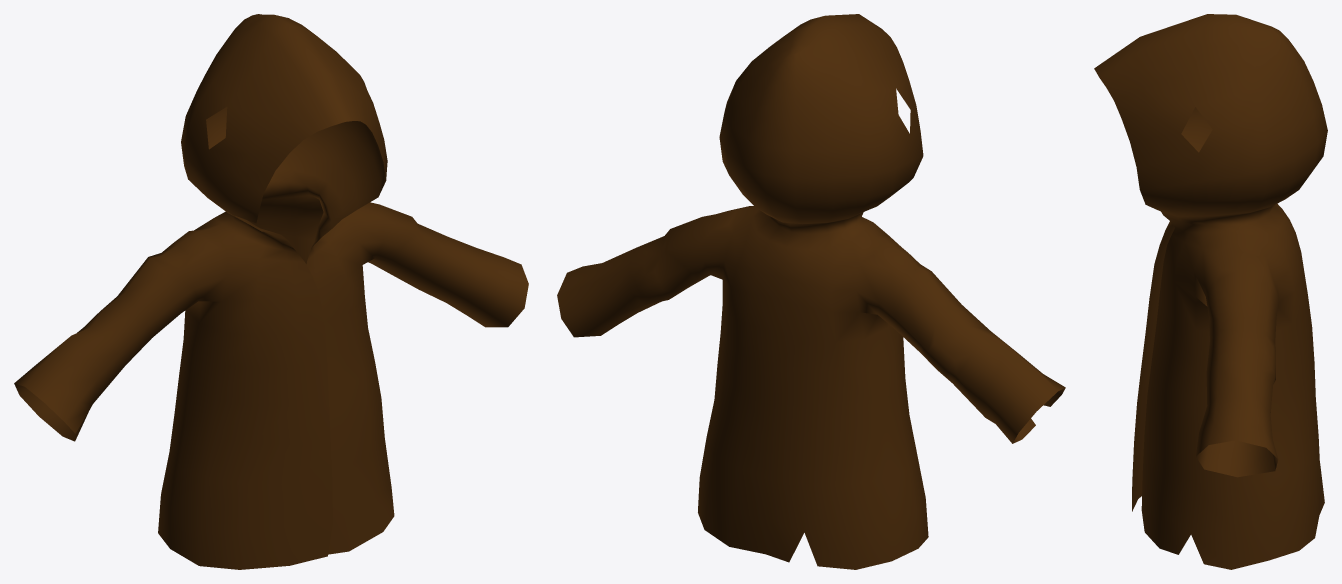
File: plash2.fbx
The picture shows the model from 3 angles, left to right: view 1: azimuth 30°, elevation 25°; view 2: azimuth 150°, elevation 25°; view 3: azimuth 270°, elevation 25°; orthographic projection.
Visible parts, largest first — view 1: GG.002; view 2: GG.002; view 3: GG.002.
Part boxes in pixels (x1=…): GG.002: x1=14, y1=14, x2=528, y2=569; GG.002: x1=557, y1=14, x2=1065, y2=569; GG.002: x1=1094, y1=14, x2=1327, y2=569.
Size of the model in its own units: 273 by 268 by 112.
